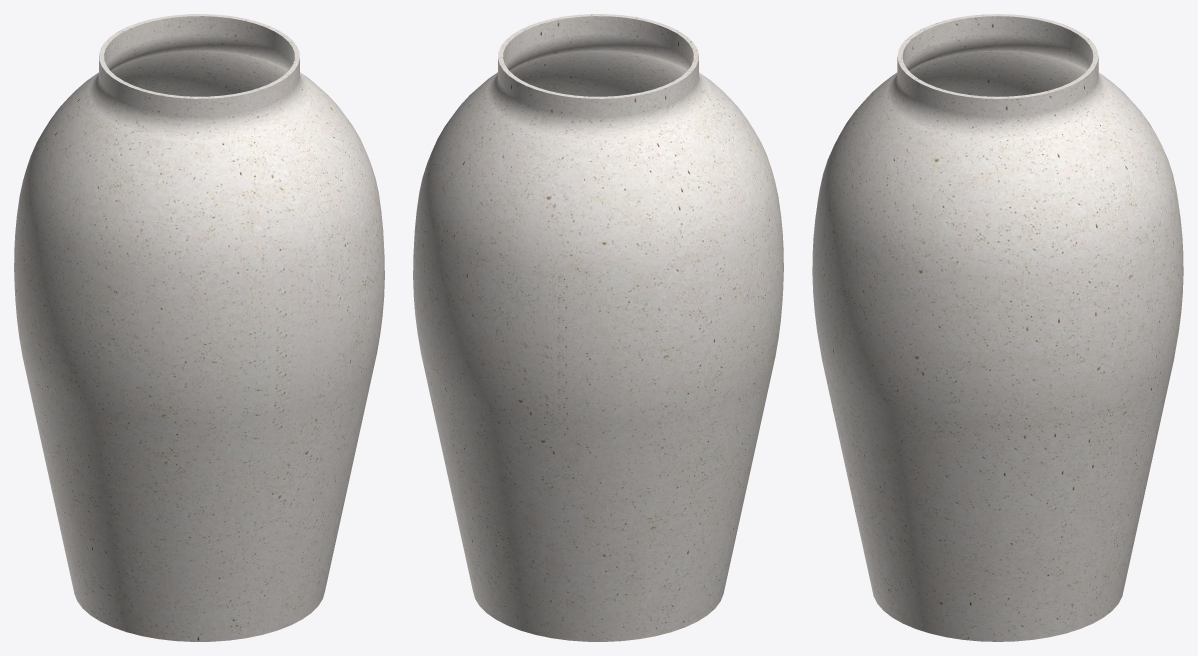
File: decor_vase_ceramic.glb
3 views of the same model, side by side, from view 1: azimuth 30°, elevation 25°; view 2: azimuth 150°, elevation 25°; view 3: azimuth 270°, elevation 25° (orthographic).
Parts seen in each view (by area): view 1: Geom3D; view 2: Geom3D; view 3: Geom3D.
Part boxes in pixels (<box>): Geom3D: <box>14,14,384,641</box>; Geom3D: <box>413,14,783,641</box>; Geom3D: <box>812,14,1183,641</box>.
Size of the model in its own units: 0.2345 by 0.3712 by 0.2345.
Materials: 1 (1 with a texture image).
